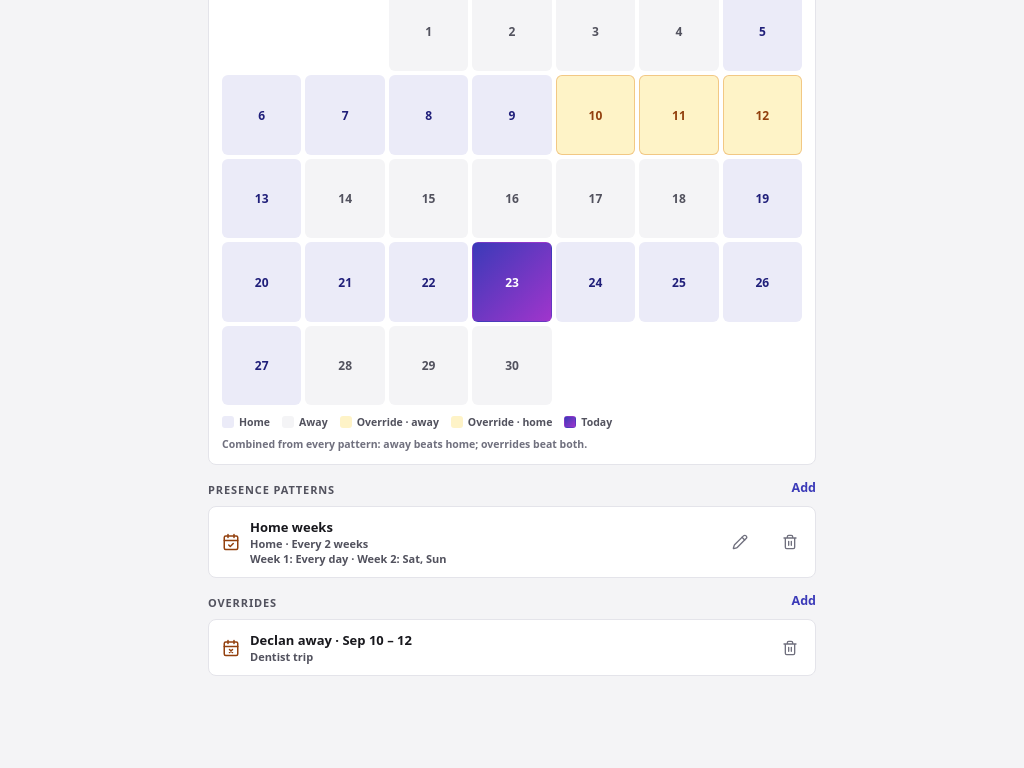
OverrideEditor › renders the pushed screen per ADMIN-SPEC §6
(page scrolled)
Check: the list item with test id "pattern-1" is shown, box [209,507,815,577]
Click the 2nd button "Add".
click(804, 599)  # box [792,588,816,609]
(page scrolled)
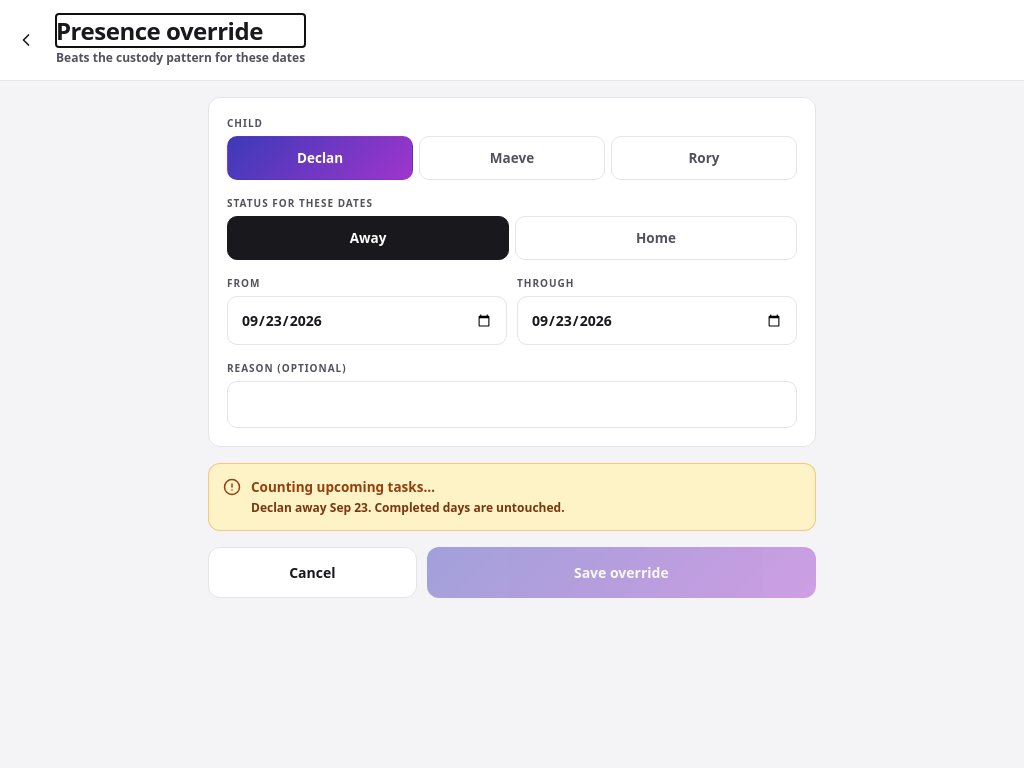
Check: the heading "Presence override" is shown, box [56,14,263,47]
Check: the text "Beats the custody pattern for these dates" is shown, box [56,49,305,66]
Check: the button named "Back" is shown, box [4,18,48,62]
